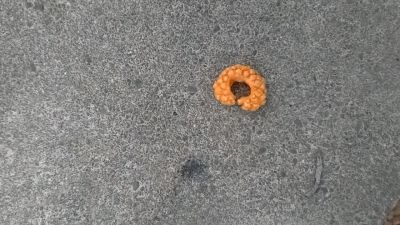eggs: (213, 63, 269, 111)
